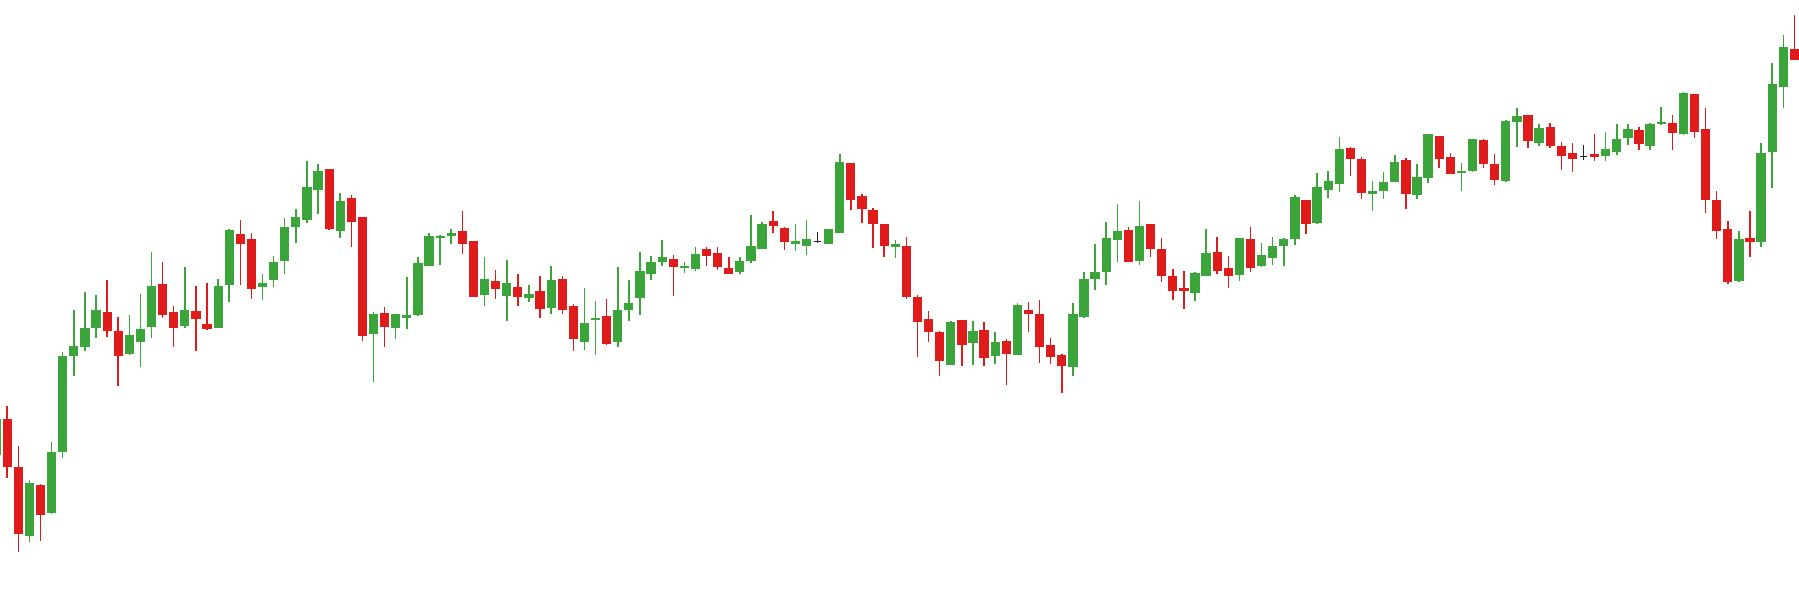buy: (190, 240, 383, 388), (999, 323, 1066, 402)
